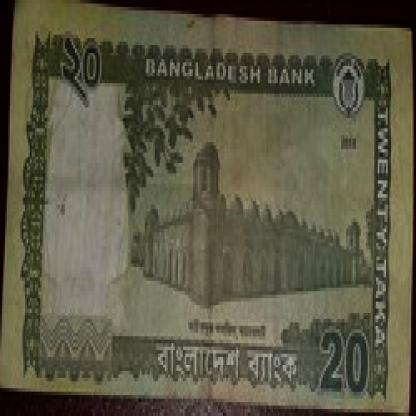Twenty: (308, 326, 374, 402), (53, 38, 115, 108)
